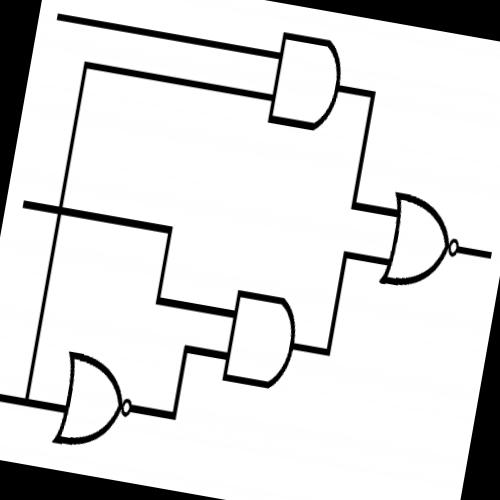and: (215, 280, 306, 398), (260, 24, 351, 142)
nor: (45, 341, 144, 462), (372, 181, 470, 303)
